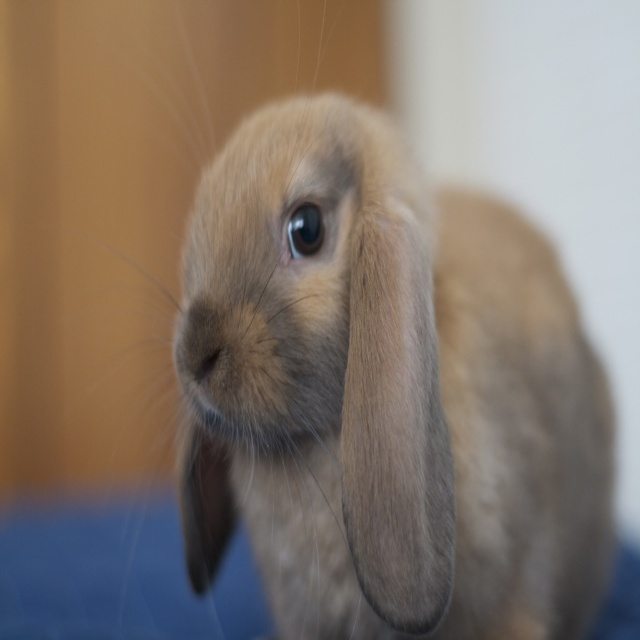Rabbit: (115, 81, 619, 639)
